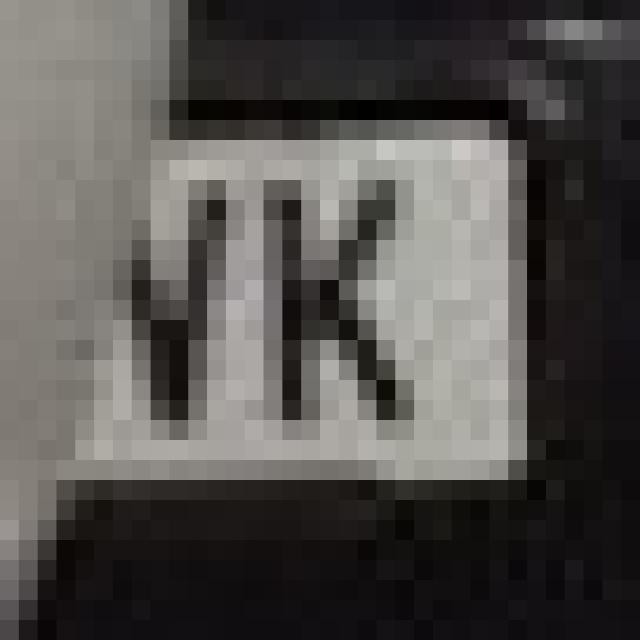licenseplate: (90, 64, 542, 490)
